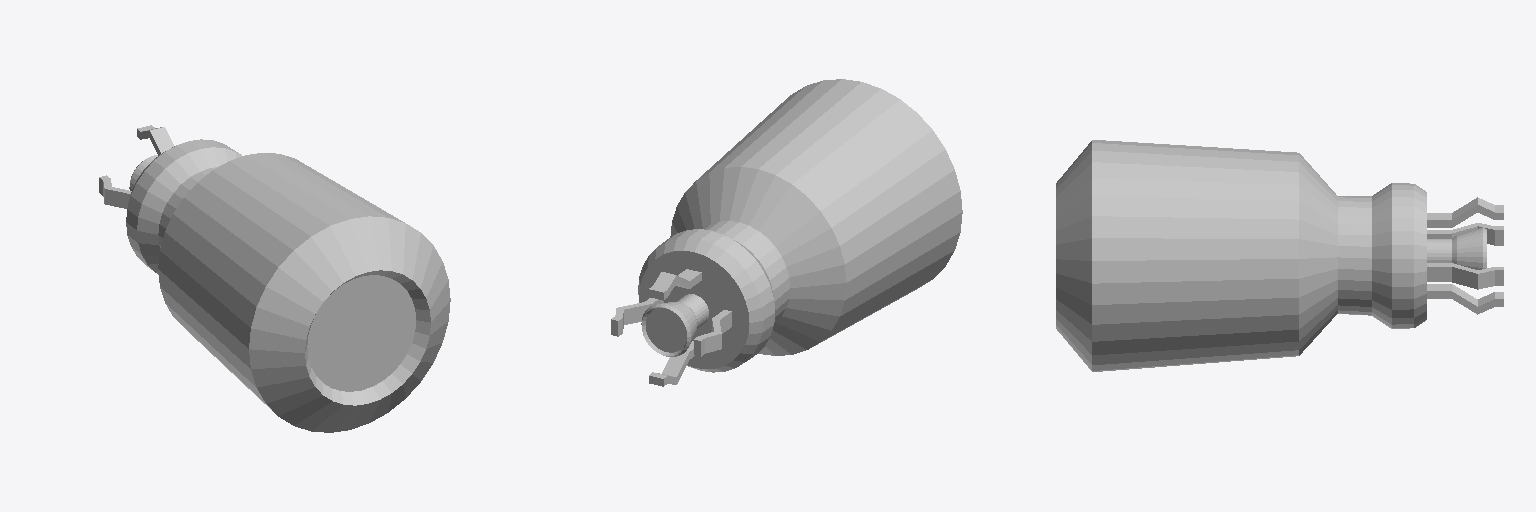
The model's file is ntool.obj.
3 views of the same model, side by side, from view 1: azimuth 30°, elevation 25°; view 2: azimuth 150°, elevation 25°; view 3: azimuth 270°, elevation 25° (orthographic).
Visible parts, largest first — view 1: Cube.001_Cube.004; view 2: Cube.001_Cube.004; view 3: Cube.001_Cube.004.
Part boxes in pixels (x1,y1,x2,y2): Cube.001_Cube.004: (99, 125, 450, 432); Cube.001_Cube.004: (611, 79, 962, 386); Cube.001_Cube.004: (1056, 140, 1503, 371).
Size of the model in its own units: 0.457 by 0.457 by 0.8789.